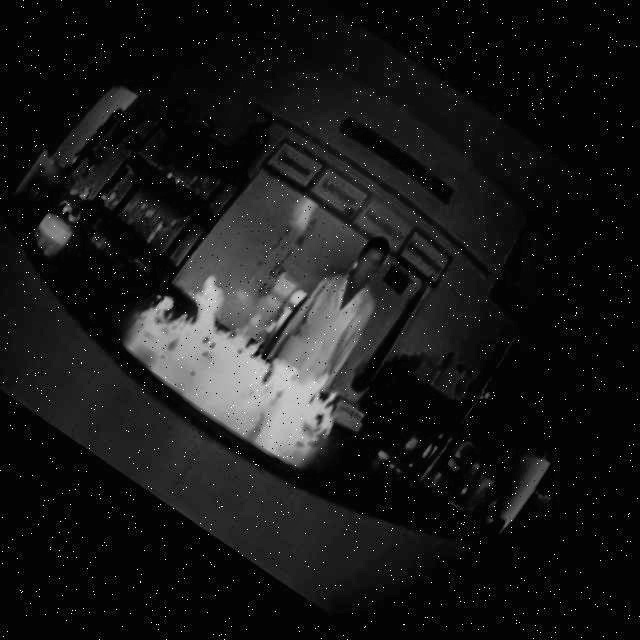Fire: (117, 235, 378, 483)
